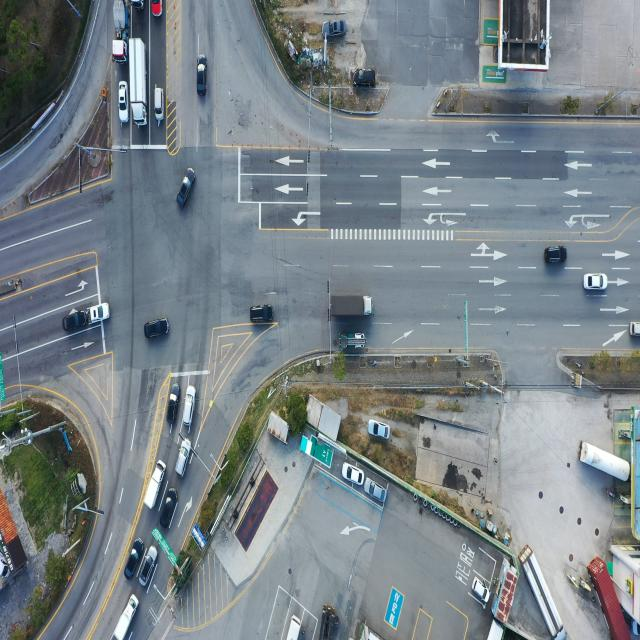car: (138, 546, 158, 588), (177, 168, 196, 209), (175, 438, 192, 478), (161, 491, 178, 531), (126, 542, 142, 580), (182, 386, 196, 428), (471, 578, 490, 607), (364, 480, 386, 505), (64, 310, 88, 332), (144, 318, 170, 338), (343, 463, 365, 486), (251, 306, 276, 326), (367, 420, 389, 440), (198, 56, 208, 100), (323, 20, 346, 39), (121, 84, 131, 126), (354, 68, 376, 87), (585, 274, 608, 292), (118, 82, 128, 123), (90, 305, 111, 324), (544, 247, 566, 264), (154, 87, 164, 122), (630, 320, 640, 337), (151, 0, 161, 17)
medium_truck: (523, 545, 566, 638), (577, 441, 632, 487), (131, 38, 150, 126), (329, 292, 373, 318), (115, 0, 131, 60), (132, 0, 146, 9)
small_bus: (322, 606, 338, 640), (283, 615, 302, 640)
small_truck: (144, 458, 166, 510), (116, 595, 140, 640), (164, 386, 179, 432), (339, 334, 368, 350)
